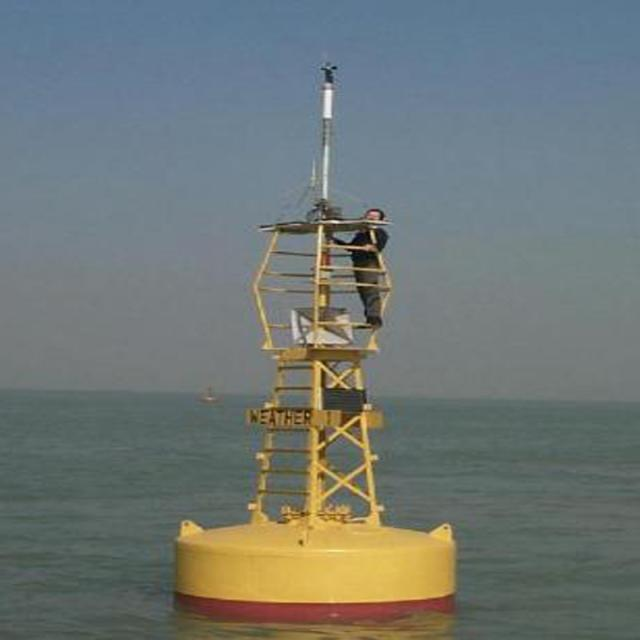buoy: (174, 56, 467, 624)
